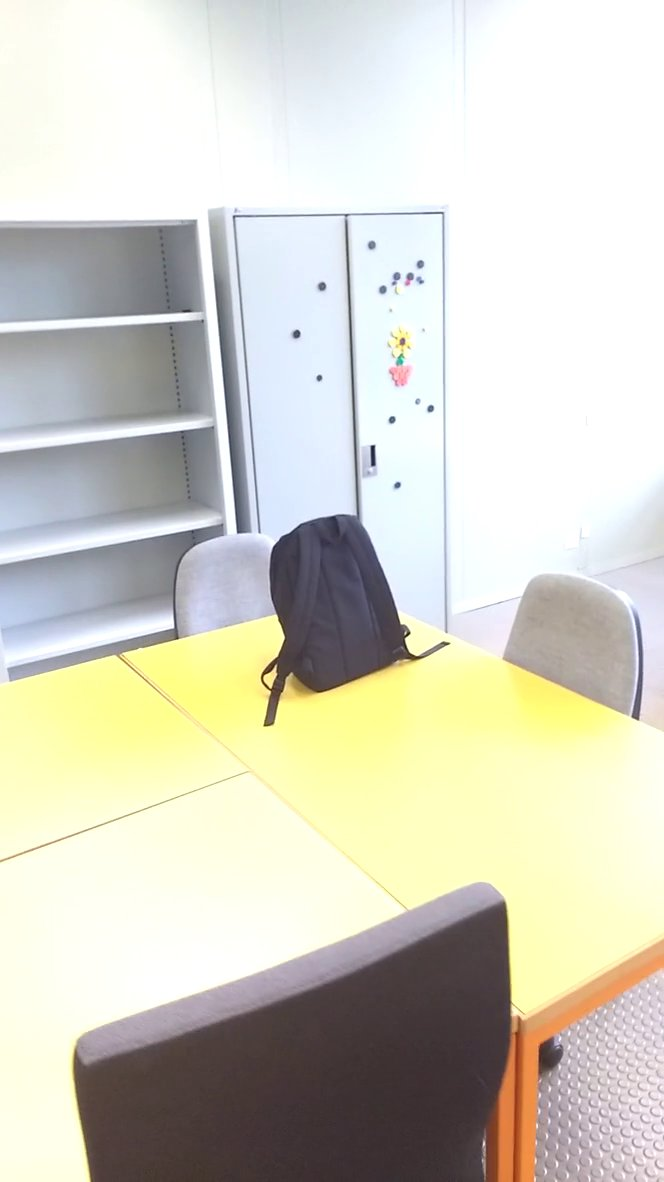bag: (258, 500, 455, 734)
chair: (35, 858, 585, 1182), (498, 566, 664, 762), (173, 514, 318, 663)
